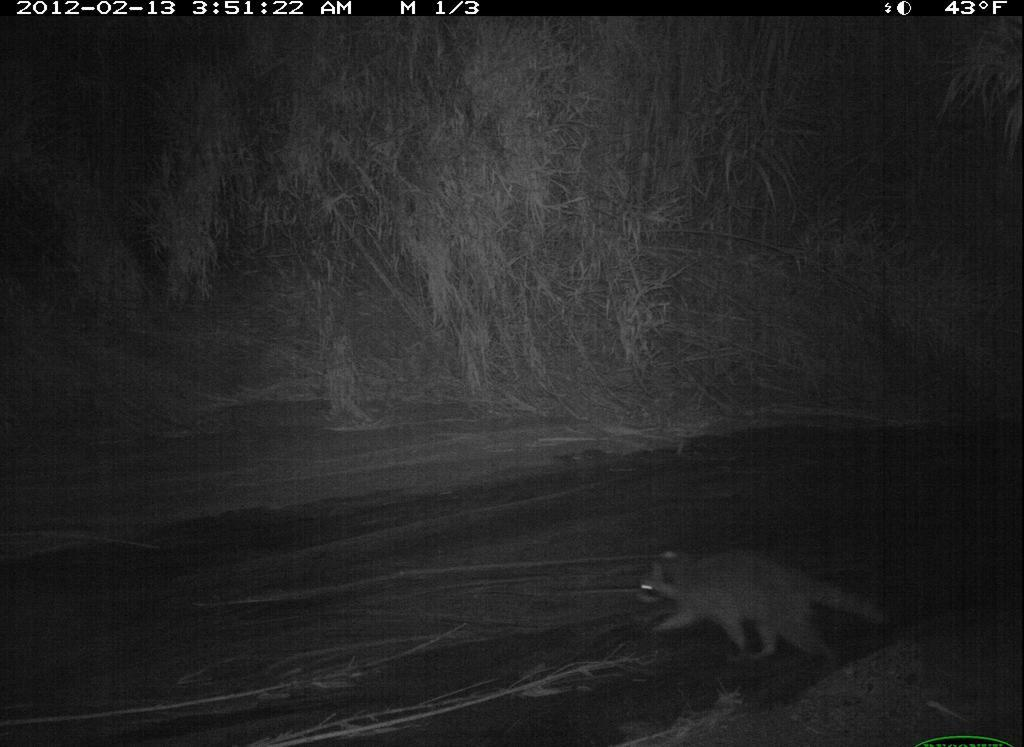raccoon: (624, 529, 916, 678)
